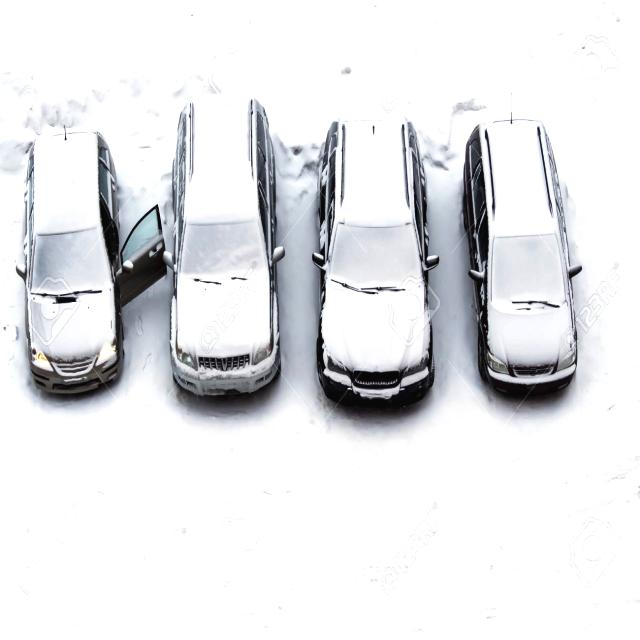car: (313, 109, 435, 412), (173, 91, 282, 398), (461, 117, 577, 396), (21, 131, 123, 394)
